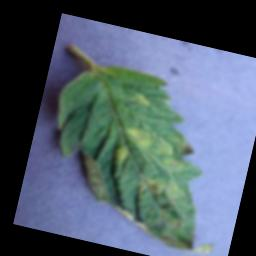Leaf_Mold: (149, 131, 197, 175), (135, 171, 186, 209), (120, 125, 156, 153), (110, 144, 132, 168), (130, 89, 154, 110)
